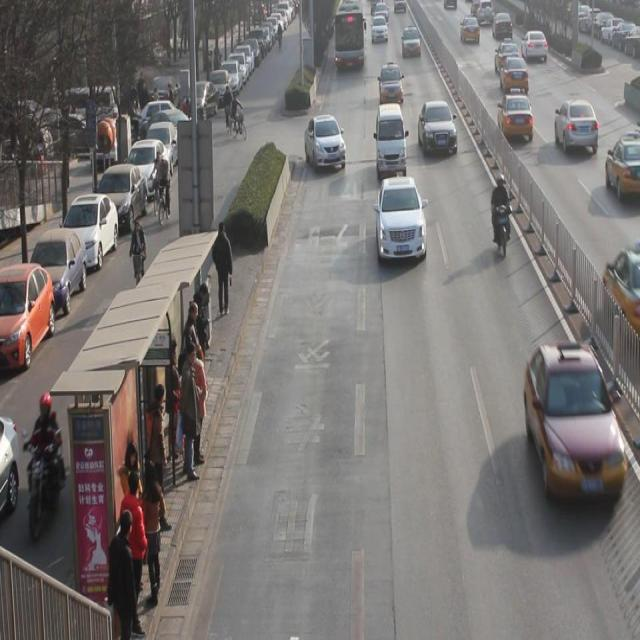car: (525, 343, 624, 503), (376, 177, 426, 263), (554, 100, 599, 156), (606, 131, 640, 202), (305, 117, 346, 170), (419, 100, 457, 157), (498, 90, 533, 140), (500, 54, 529, 93), (379, 62, 404, 103), (521, 28, 548, 61), (494, 39, 520, 71), (493, 11, 514, 40), (403, 26, 421, 57), (462, 16, 480, 42), (372, 15, 388, 42)
truck: (376, 104, 406, 178)
van: (334, 1, 364, 69)
